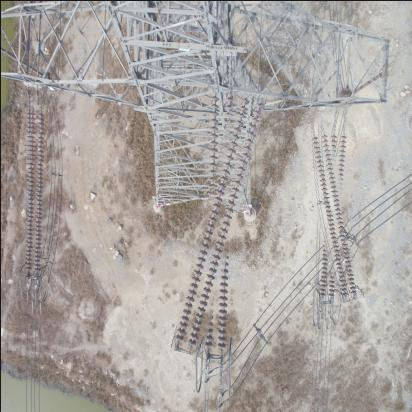insulator: (187, 91, 251, 358), (304, 121, 360, 304), (26, 105, 47, 277)
